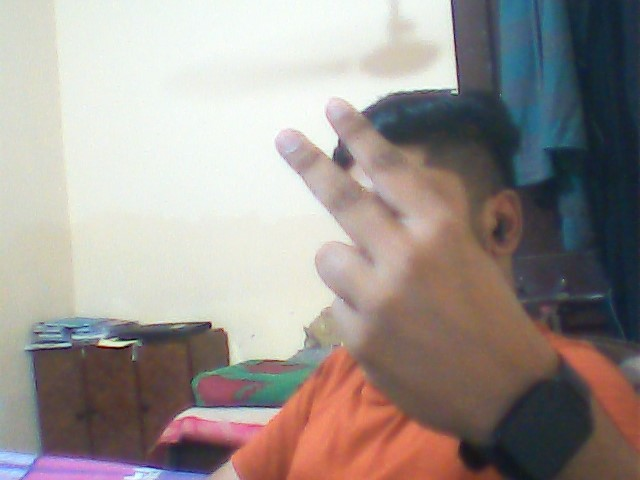Please: (264, 86, 567, 407)
